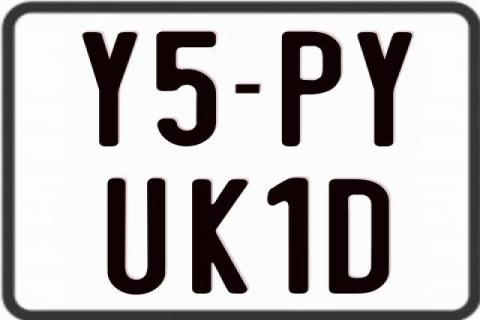0: (155, 30, 216, 150), (264, 177, 308, 296)
D: (326, 178, 386, 294)
K: (190, 180, 251, 298)
P: (280, 31, 345, 146)
U: (107, 178, 171, 298)
Y: (81, 29, 140, 145), (356, 30, 410, 146)
